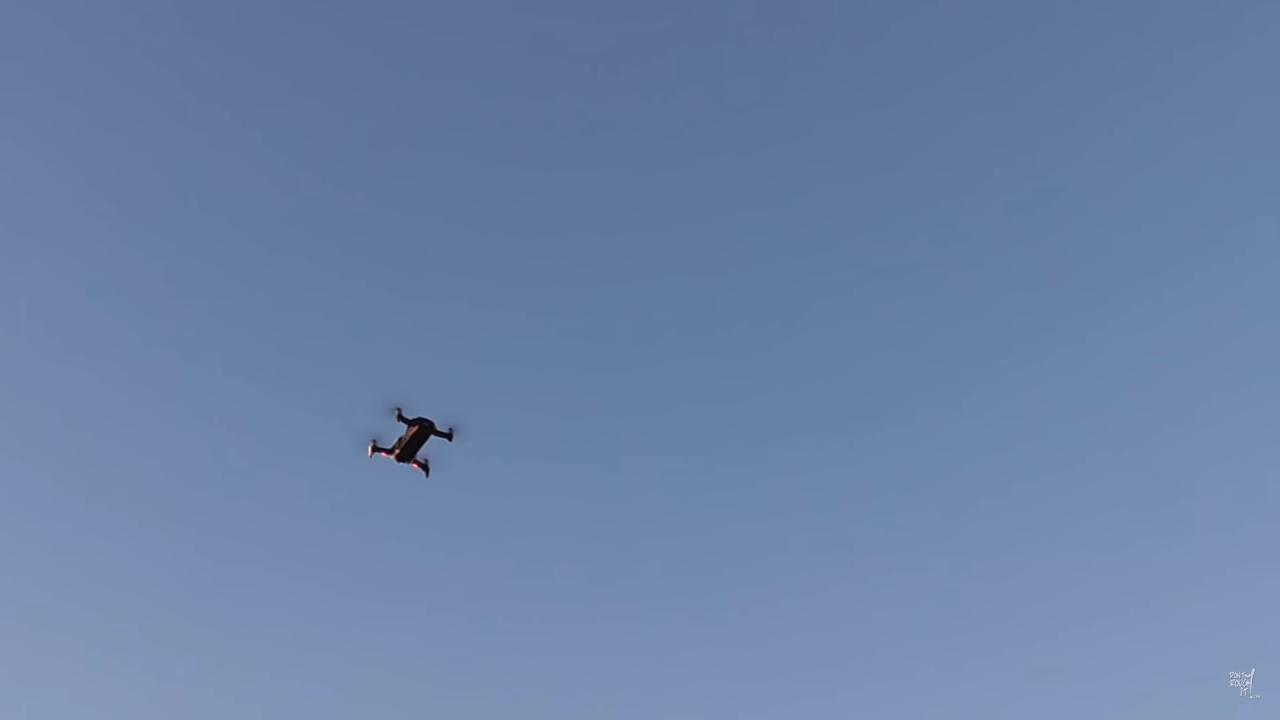Drone: (354, 397, 466, 486)
